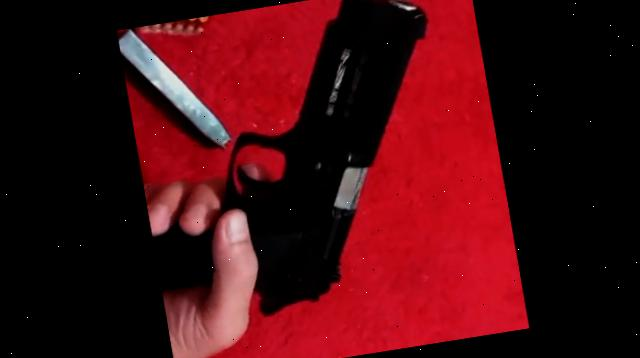pistol: (115, 0, 482, 325)
